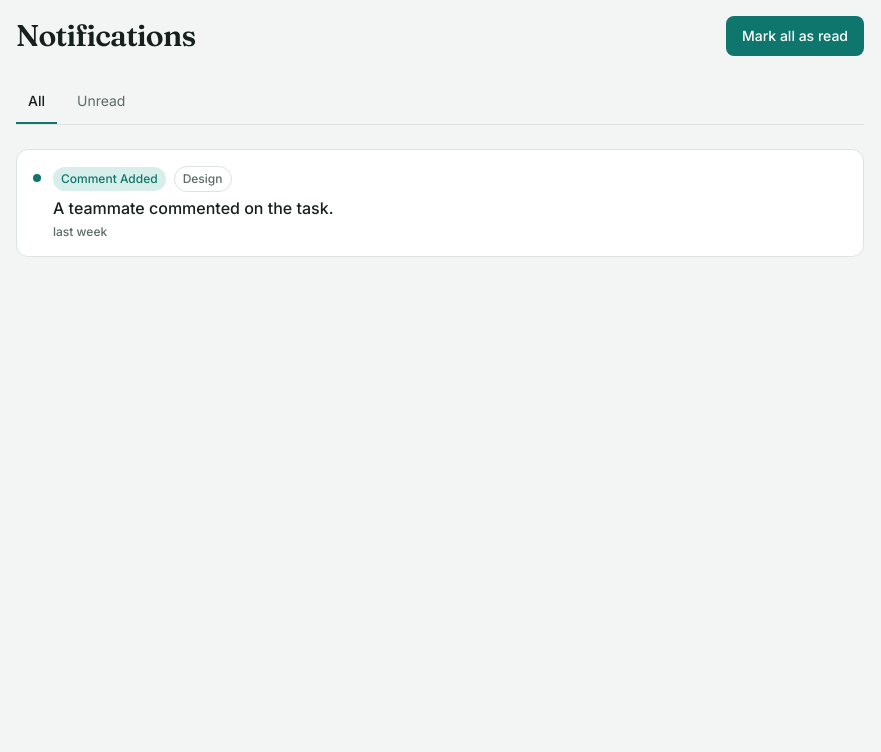
Test case: notification centre › keeps an API read failure visible as a toast
This screenshot has width=881, height=752.
Step 1. Click the button "A teammate commented on the task" → (109, 179), box top-left (17, 150), bottom-right (863, 256)
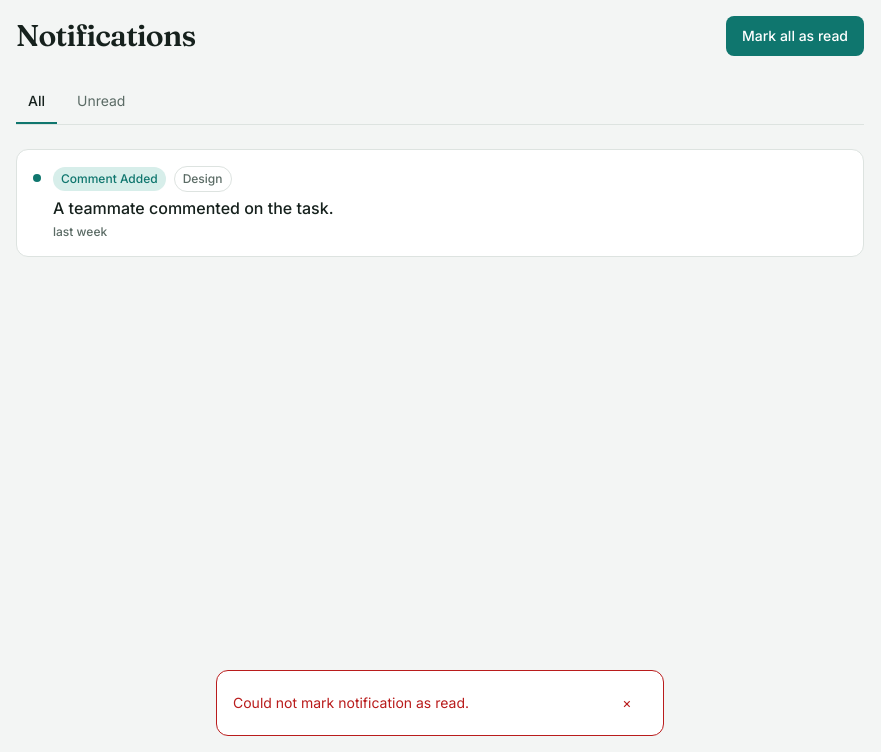
Result: the text "Could not mark notification as read." is shown at top-left (233, 694), bottom-right (469, 711)
